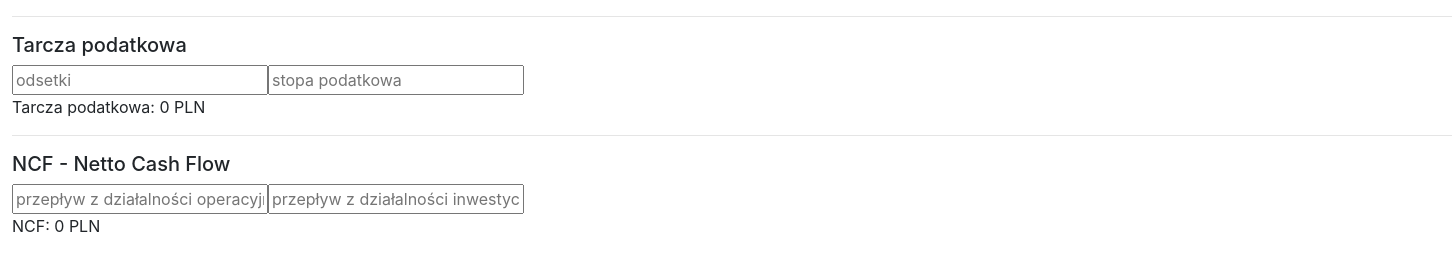
NCF component › NCF form updates and count NFC properly
Check: the field with placeholder "przepływ z działalności operacyjnej" is empty, box [12,184,268,214]
Check: the field with placeholder "przepływ z działalności inwestycyjnej" is empty, box [268,184,524,214]
// Update invest cashflow,operation cashflow and tax shield
Step 1. Type "50" into the field with placeholder "odsetki" → (140, 80), box [12,65,268,95]
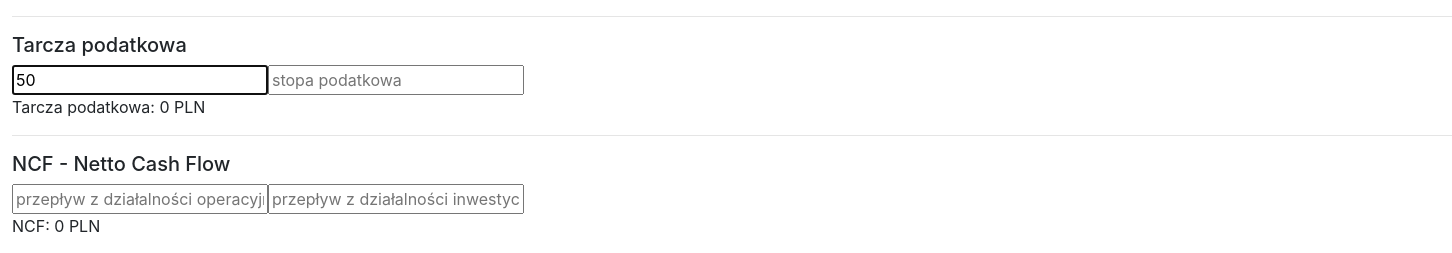
Step 2. Type "20" into the field with placeholder "stopa podatkowa" → (396, 80), box [268,65,524,95]
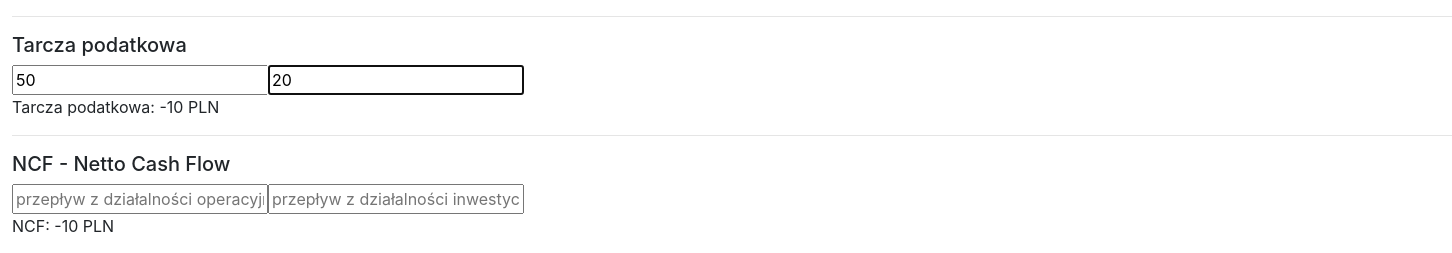
Step 3. Type "1500" into the field with placeholder "przepływ z działalności operacyjnej" → (140, 199), box [12,184,268,214]
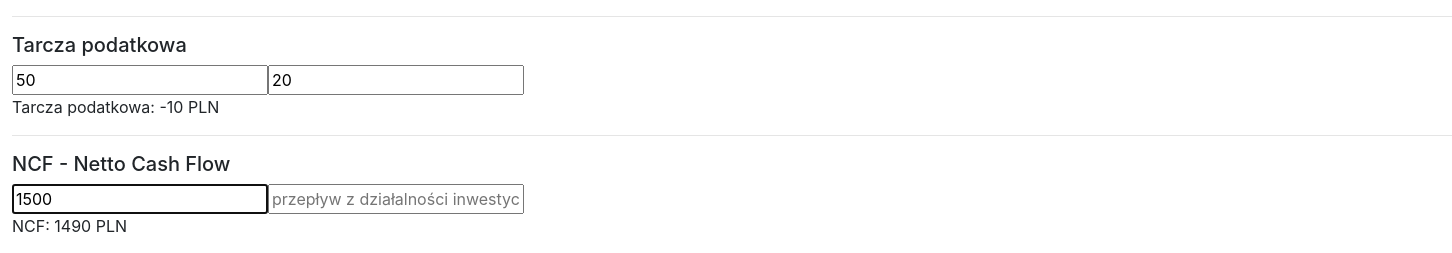
Step 4. Type "300" into the field with placeholder "przepływ z działalności inwestycyjnej" → (396, 199), box [268,184,524,214]
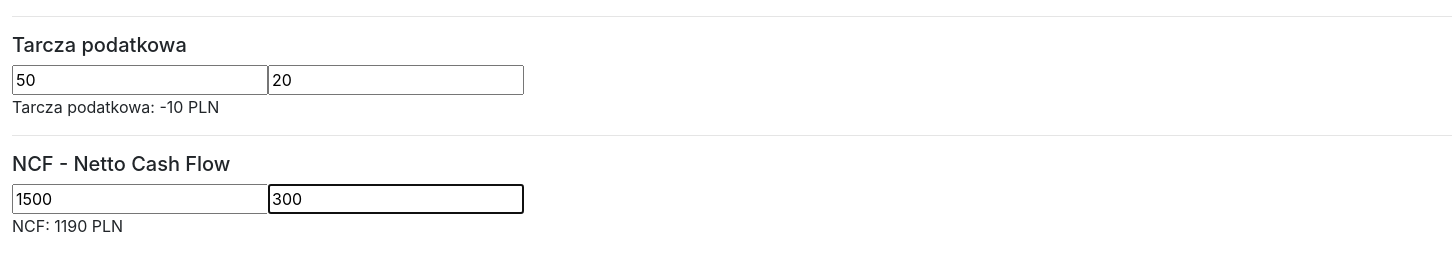
Check: the text "NCF: 1190 PLN" is shown, box [12,216,123,236]
